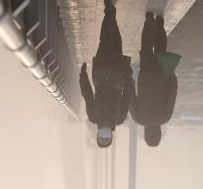person: (80, 1, 131, 152), (125, 11, 180, 147)
